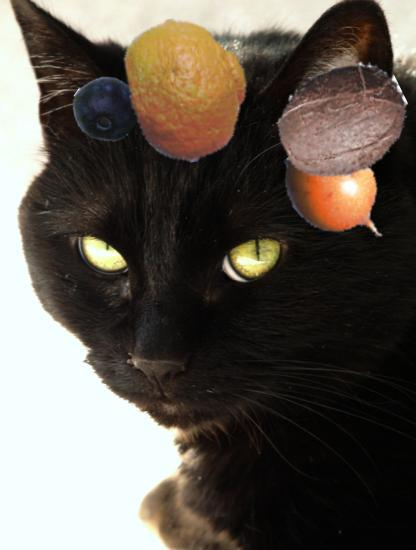Blueberry: (72, 75, 139, 142)
Cocos: (273, 50, 407, 184)
Granadilla: (277, 134, 399, 256)
Mandarine: (115, 17, 261, 163)
